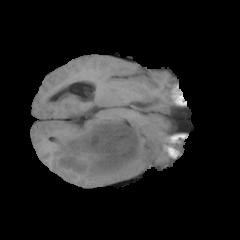glioma: (52, 119, 156, 183)
